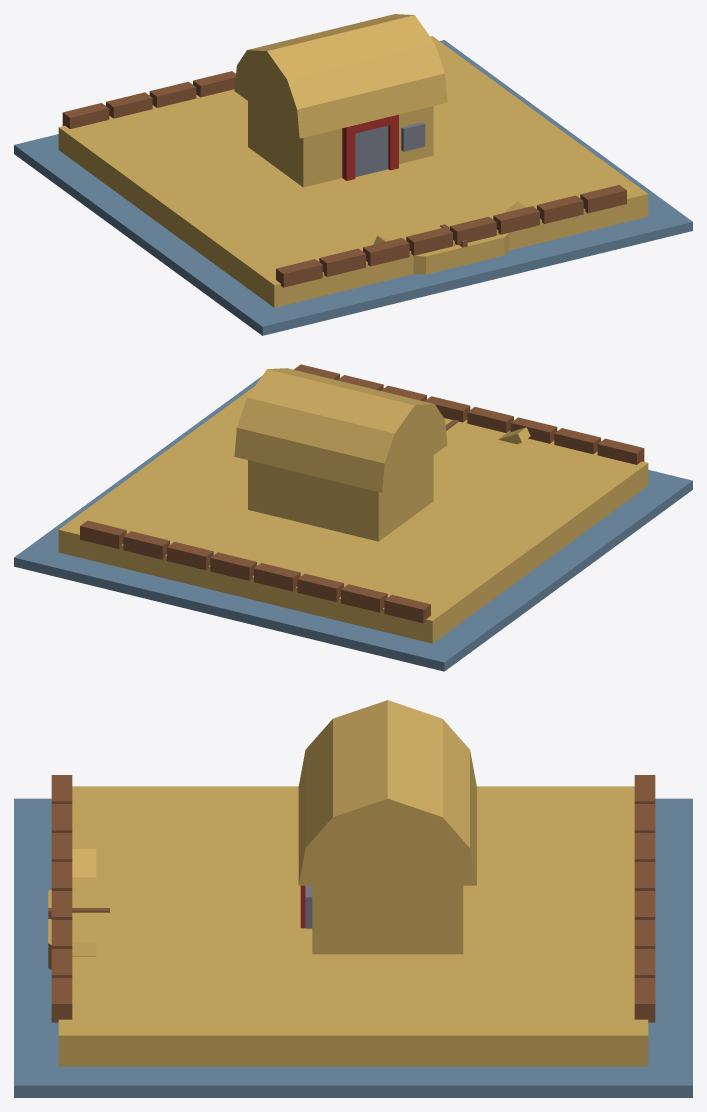
Rendered from house-1x1-1f-totora-a.glb.
3 renders of one model, top to bottom at view 1: azimuth 30°, elevation 25°; view 2: azimuth 150°, elevation 25°; view 3: azimuth 270°, elevation 25°, orthographic. The views are drawn at different scales.
Visible parts, largest first — view 1: house-1x1-1f-totora-a; view 2: house-1x1-1f-totora-a; view 3: house-1x1-1f-totora-a.
Part boxes in pixels (left/top/right/bottom): house-1x1-1f-totora-a: left=14, top=14, right=692, bottom=335; house-1x1-1f-totora-a: left=14, top=364, right=692, bottom=671; house-1x1-1f-totora-a: left=14, top=700, right=692, bottom=1097.
Bounding box in the file's own units: 0.99 × 0.33 × 0.99.
Materials: 1 (1 with a texture image).
